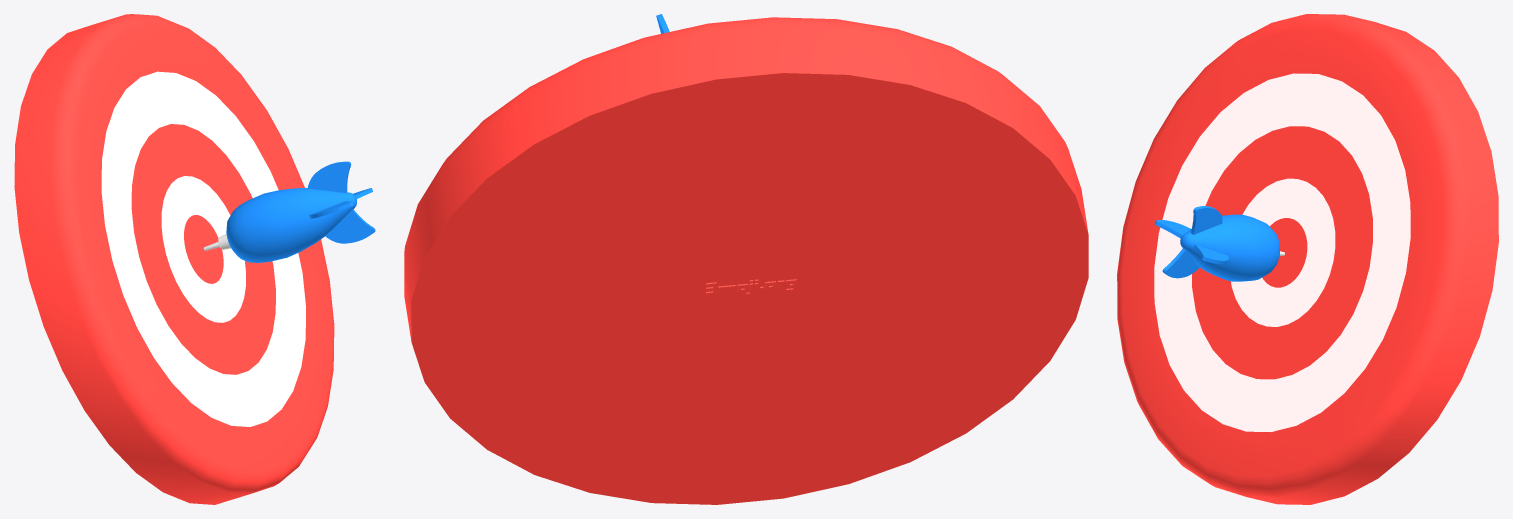
Rendered from bullseye.gltf.
3 views of the same model, side by side, from view 1: azimuth 30°, elevation 25°; view 2: azimuth 150°, elevation 25°; view 3: azimuth 270°, elevation 25° (orthographic). The views are drawn at different scales.
Parts seen in each view (by area): view 1: Circle.2532; view 2: Circle.2532; view 3: Circle.2532.
Part boxes in pixels (x1,y1,x2,y2): Circle.2532: (14,14,375,504); Circle.2532: (404,14,1088,504); Circle.2532: (1117,14,1498,504).
Bounding box in the file's own units: 2.1 × 2.22 × 1.84.
Materials: 1 (1 with a texture image).
